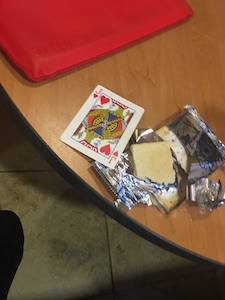JackOfHearts: (60, 84, 147, 170)
